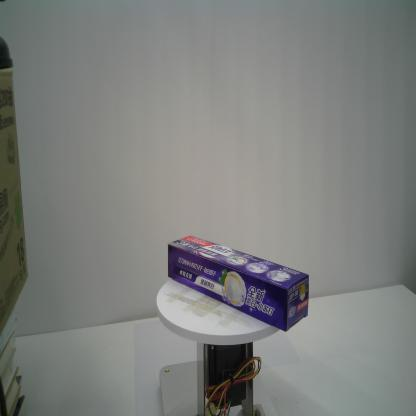Personal Hygiene: (166, 234, 311, 333)
